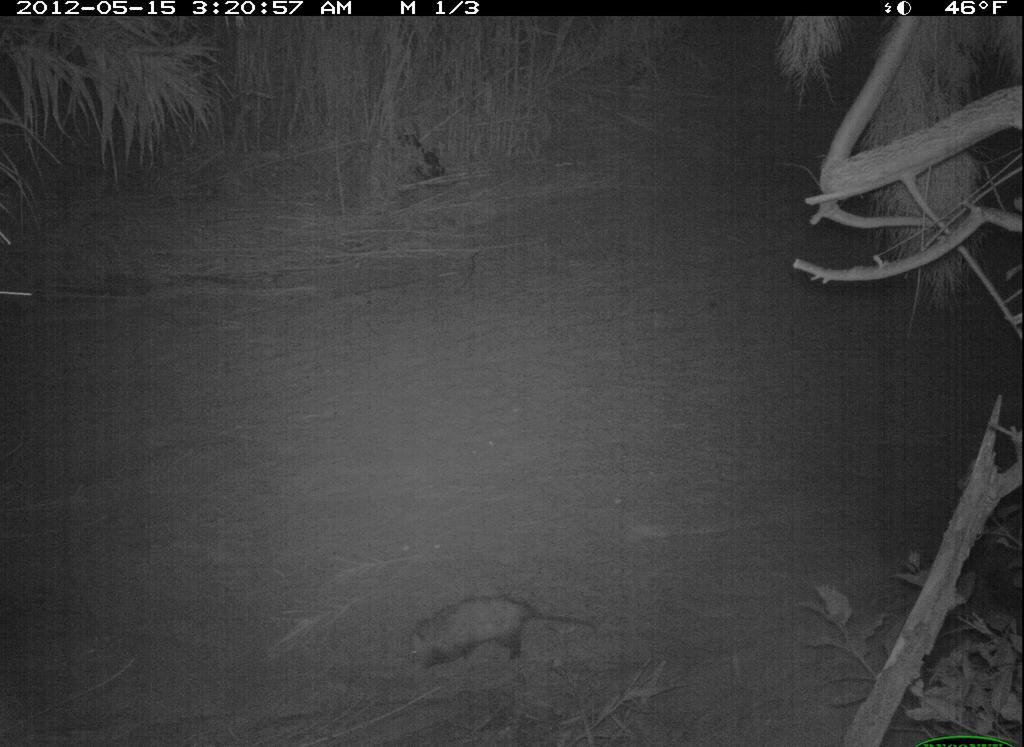opossum: (390, 589, 579, 688)
